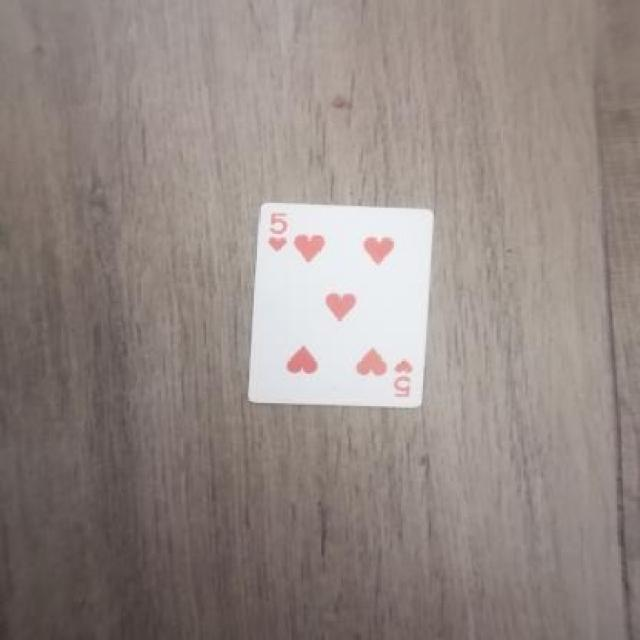5H: (248, 202, 300, 260), (390, 348, 424, 415)
